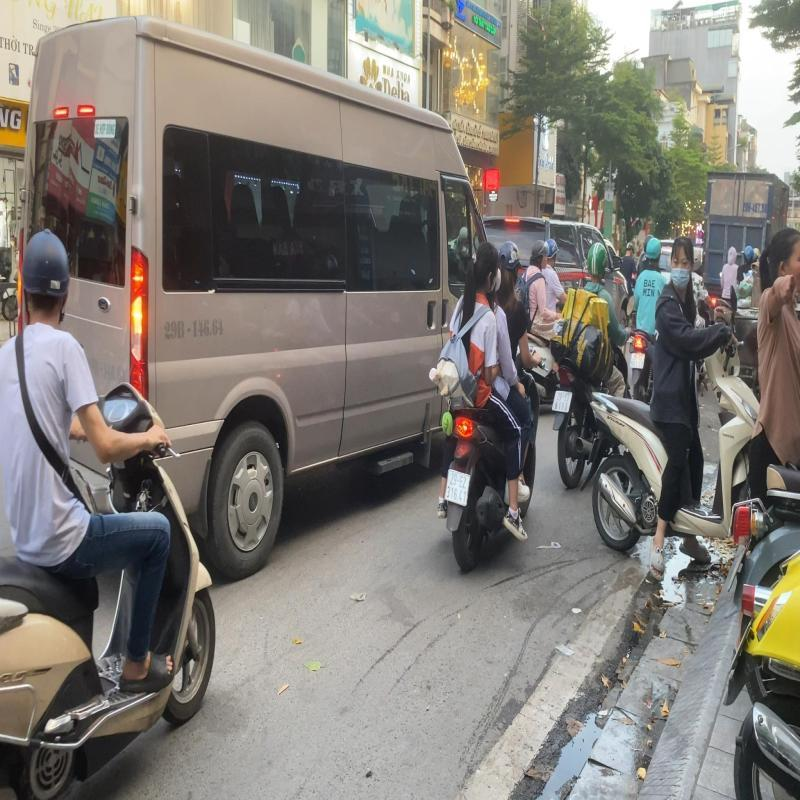licenseplate: (443, 467, 472, 508)
nohelmet: (468, 237, 500, 296)
